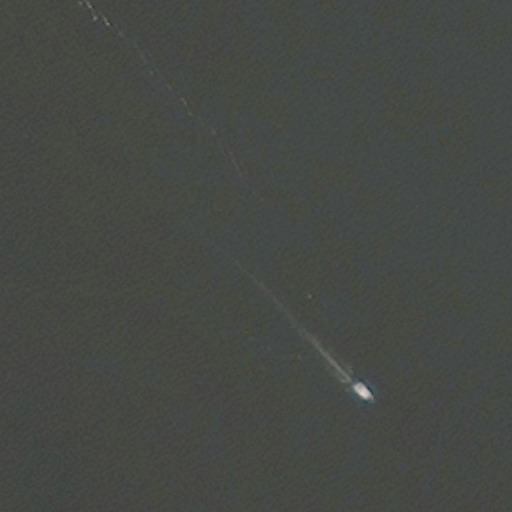ship: (349, 374, 376, 407)
